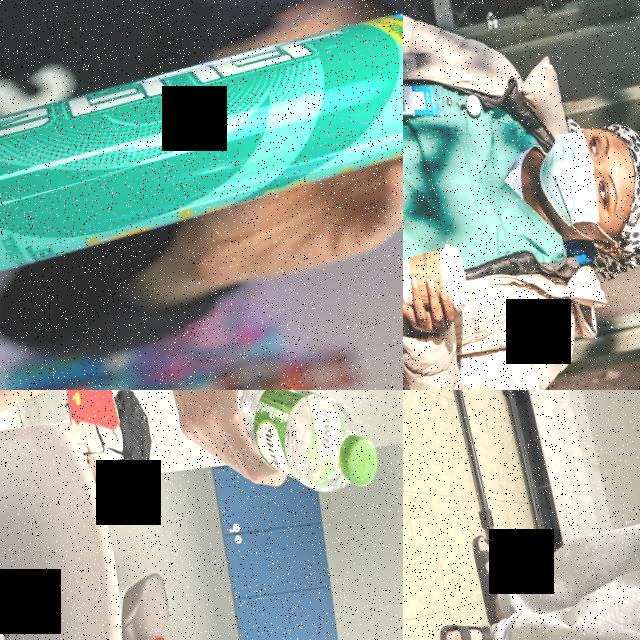bottle: (228, 390, 382, 510)
can: (0, 0, 403, 299)
cup: (403, 238, 477, 331)
